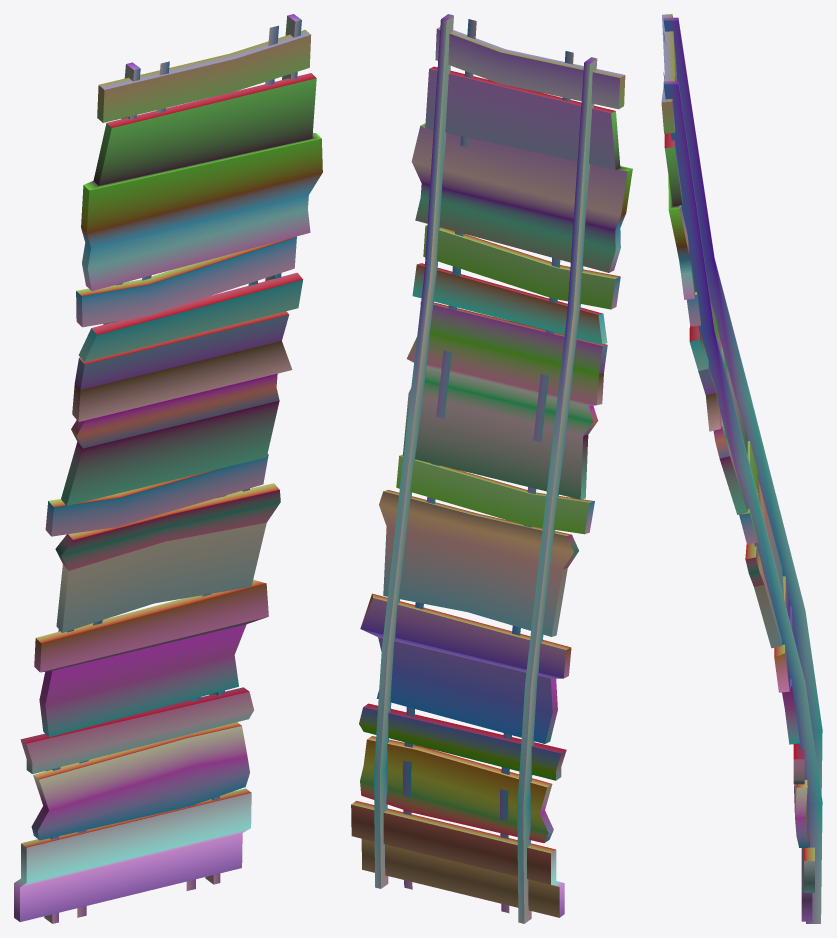
File: Dock_RampStraightA.glb
3 renders of one model, left to right at view 1: azimuth 30°, elevation 25°; view 2: azimuth 150°, elevation 25°; view 3: azimuth 270°, elevation 25°, orthographic. The views are drawn at different scales.
Visible parts, largest first — view 1: MeshNode_0; view 2: MeshNode_0; view 3: MeshNode_0.
Boxes of the visible parts, x1,y1,x2,y2 form: MeshNode_0: [14, 14, 322, 923]; MeshNode_0: [351, 14, 632, 923]; MeshNode_0: [661, 14, 822, 923].
Bounding box in the file's own units: 17.97 × 65.69 × 11.39.
